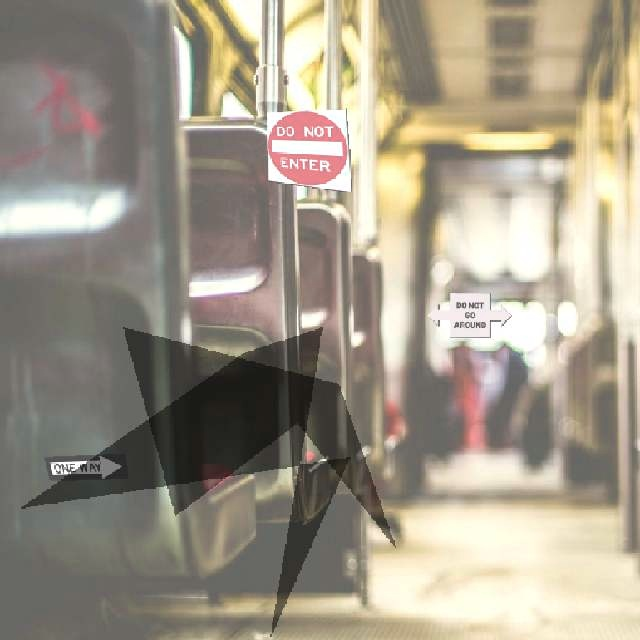DO_NOT_ENTER: (265, 107, 351, 192)
DO_NOT_GO_AROUND: (425, 291, 511, 337)
ONE_WAY_ right: (42, 452, 128, 480)
